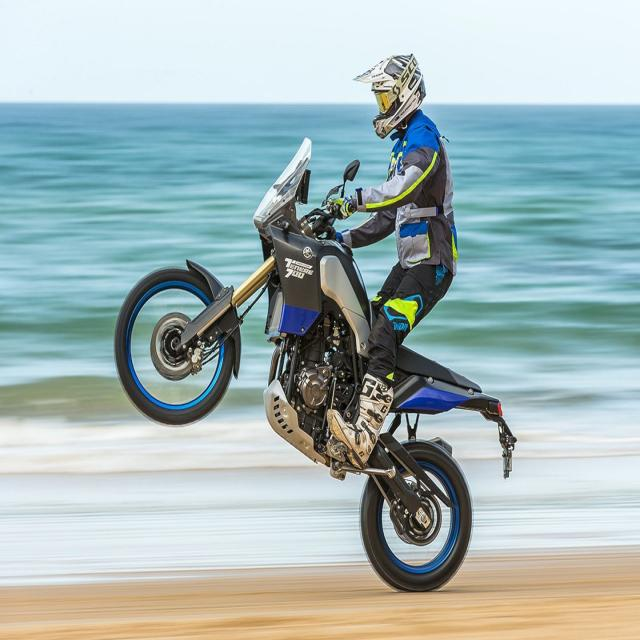illegal_helmet: (350, 50, 430, 144)
